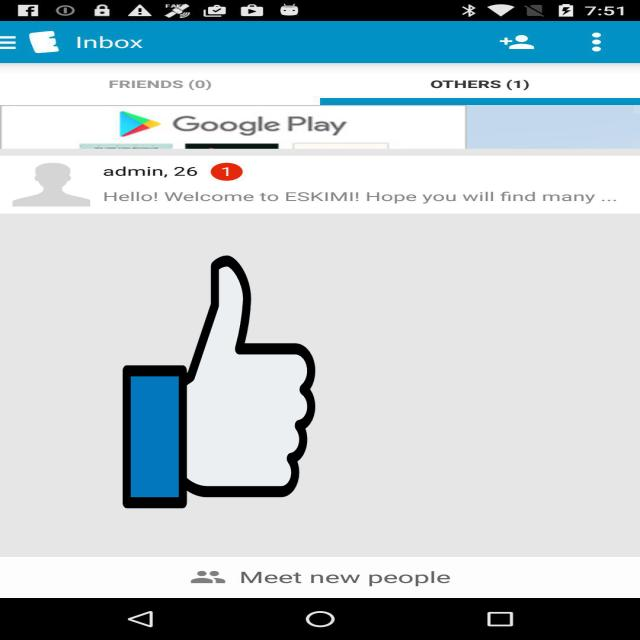privacy zuckering: (123, 250, 315, 514)
